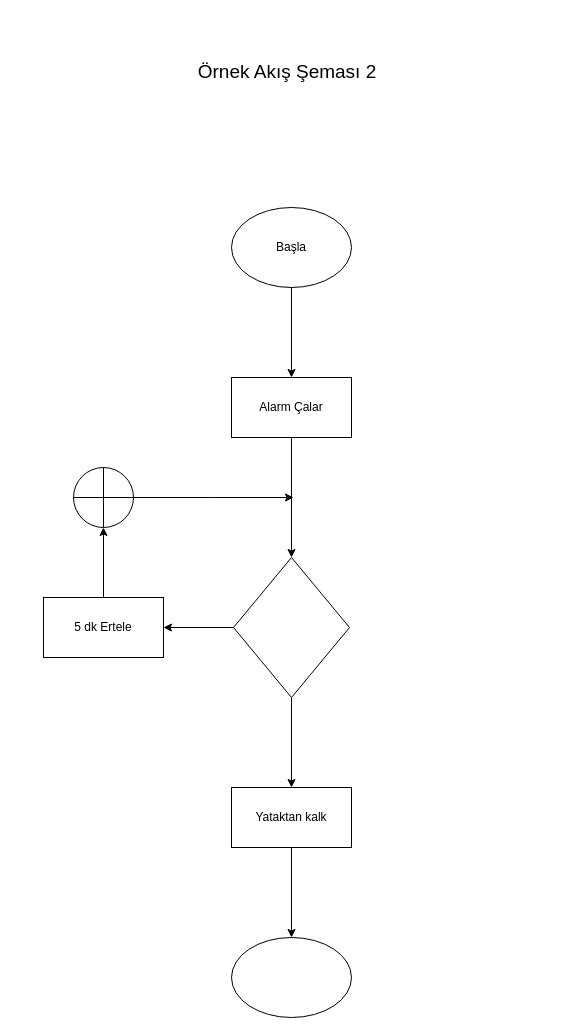
Some shapes in this 574 by 1035 pixel diagram are drawn without their labels. Here are the shapes that lost their labels. From the top down, the box of each, then its label:
(232, 556, 350, 698): Uyanmaya Hazırmısın?
(230, 936, 352, 1018): Dur
